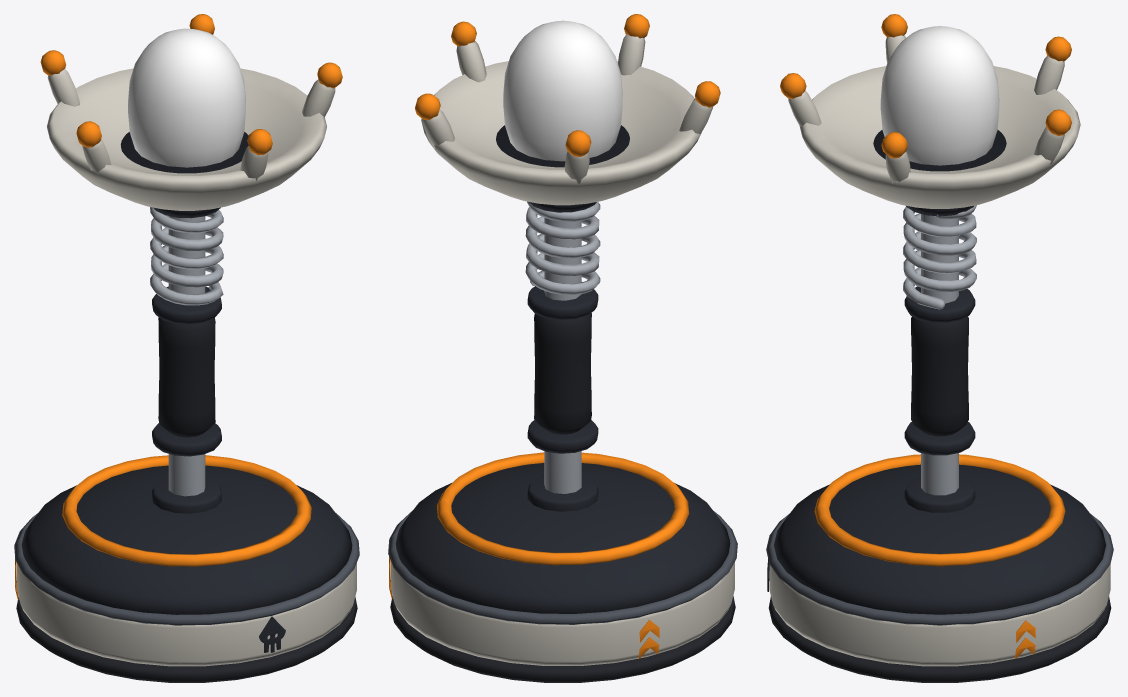
The model's file is sub_beacon.glb.
3 views of the same model, side by side, from view 1: azimuth 30°, elevation 25°; view 2: azimuth 150°, elevation 25°; view 3: azimuth 270°, elevation 25° (orthographic).
Visible parts, largest first — view 1: body, glow, ink; view 2: body, glow, ink; view 3: body, glow, ink.
Boxes of the visible parts, box(x1,y1,x2,y2) form: body: box(14, 68, 359, 682); glow: box(128, 28, 245, 167); ink: box(15, 14, 342, 599); body: box(388, 34, 737, 682); glow: box(503, 20, 622, 161); ink: box(389, 14, 720, 658); body: box(766, 35, 1113, 682); glow: box(880, 26, 999, 165); ink: box(780, 14, 1071, 658).
Bounding box in the file's own units: 0.1512 × 0.28 × 0.1512.
